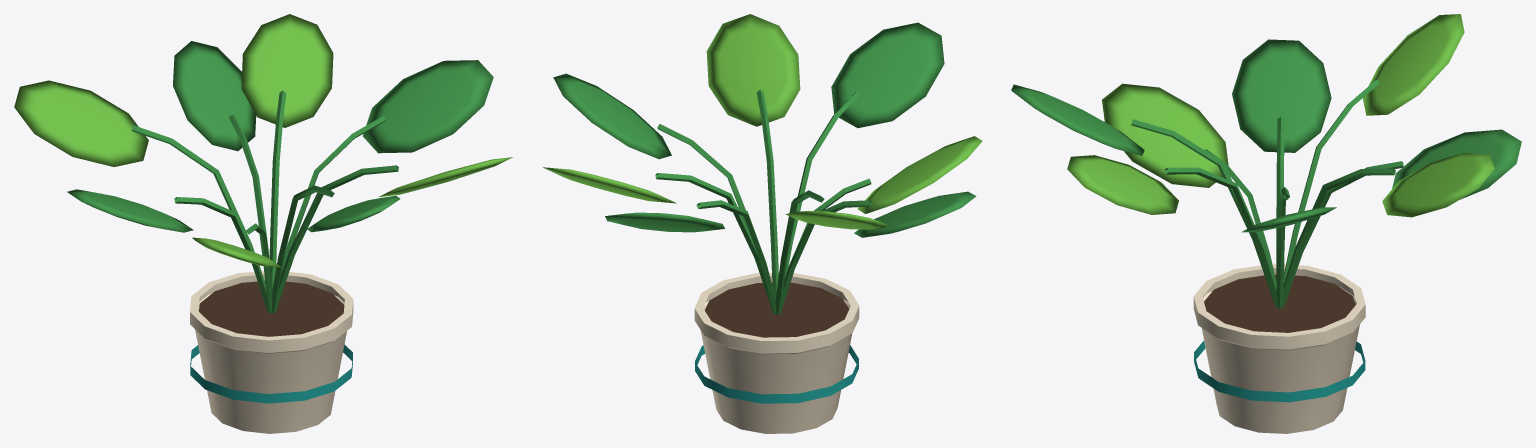
The model's file is PlantaMonstera.fbx.
3 views of the same model, side by side, from view 1: azimuth 30°, elevation 25°; view 2: azimuth 150°, elevation 25°; view 3: azimuth 270°, elevation 25° (orthographic). The views are drawn at different scales.
Visible parts, largest first — view 1: PlantaMonstera; view 2: PlantaMonstera; view 3: PlantaMonstera.
Part boxes in pixels (x1,y1,x2,y2): PlantaMonstera: (14, 14, 512, 433); PlantaMonstera: (543, 14, 982, 433); PlantaMonstera: (1011, 14, 1521, 433).
Bounding box in the file's own units: 5.47 × 3.77 × 5.63.
Materials: 1 (1 with a texture image).
